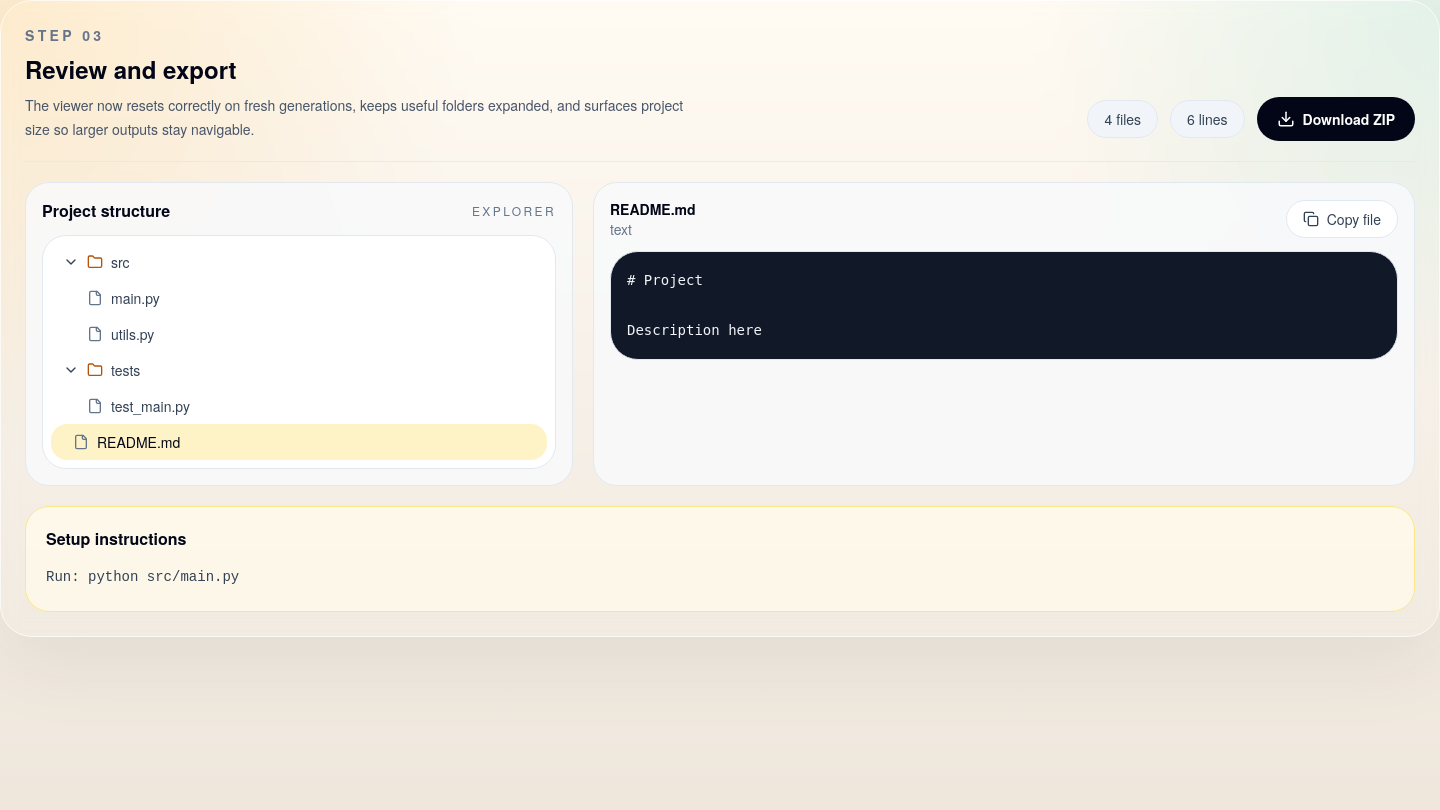
Test case: ProjectViewer Component › Copy Functionality › should show "Copied" confirmation
This screenshot has width=1440, height=810.
Click the button "Copy file".
click(1342, 219)  # box [1286,200,1398,238]
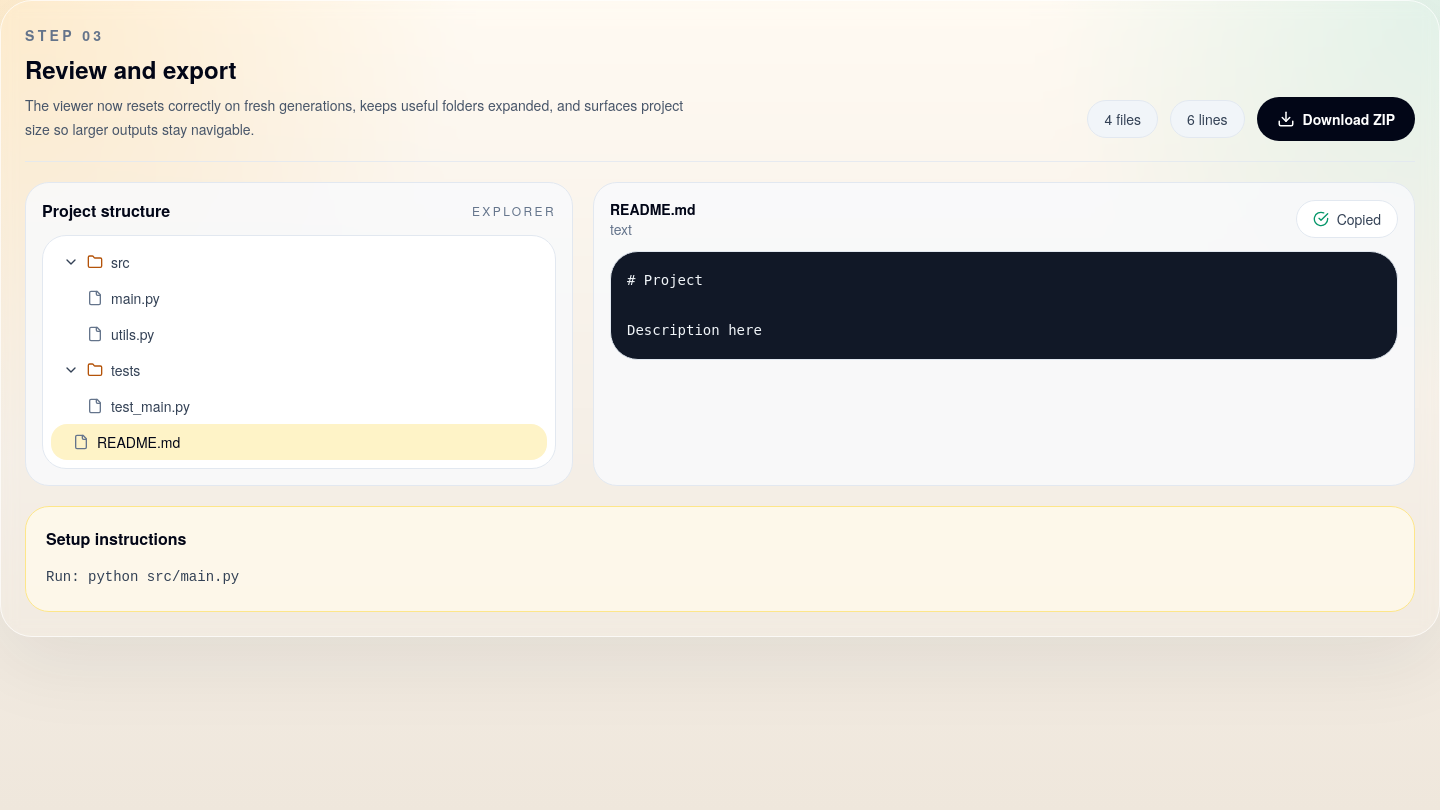
Check: the button "Copied" is shown, box [1296,200,1398,238]
